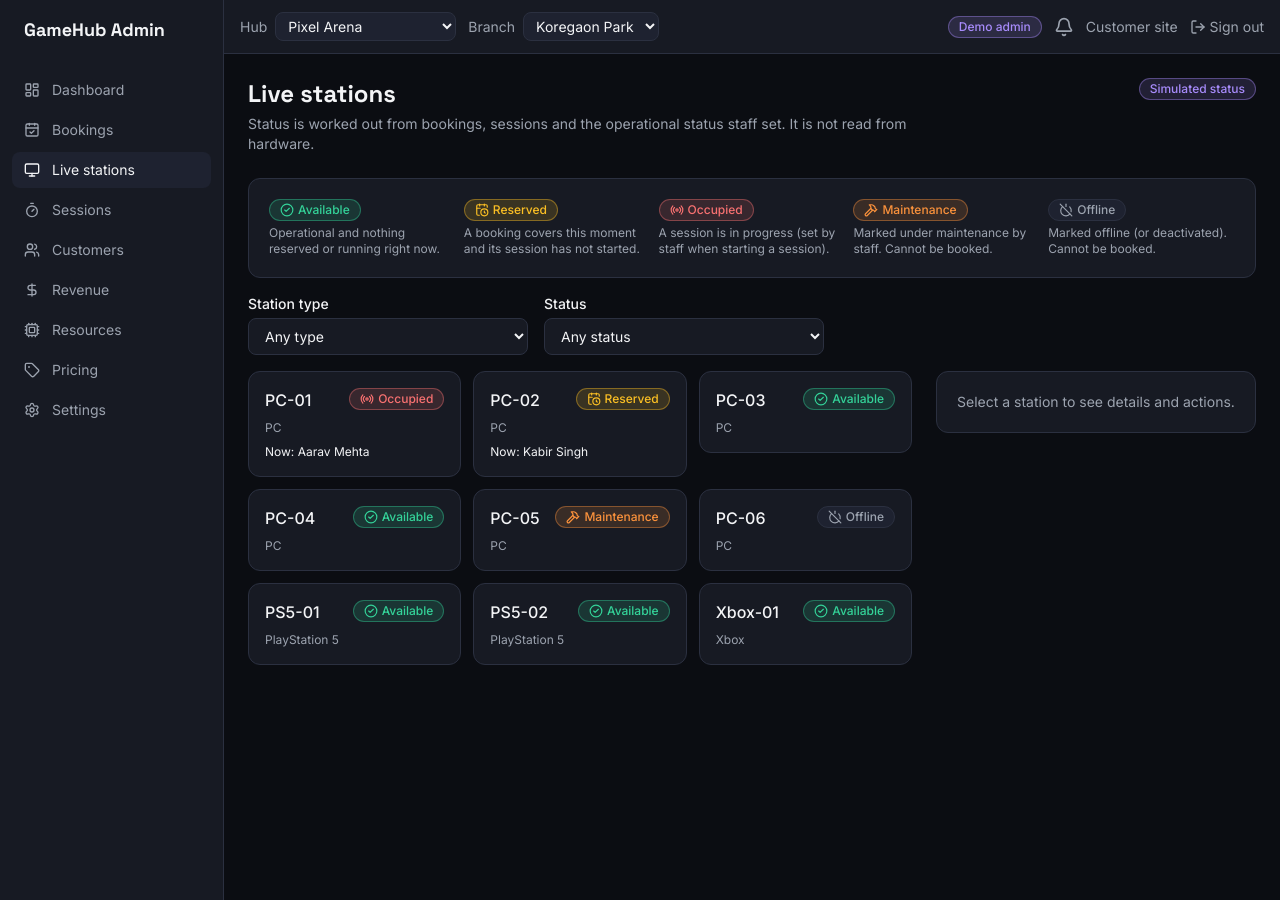
Live stations › filters by status
This screenshot has width=1280, height=900.
Expected: the text "PC-01" is shown, [265,388,311,412]
Select "Maintenance" in the dropdown labelled "Status" at {"x": 684, "y": 336}, box [544,318,824,355]
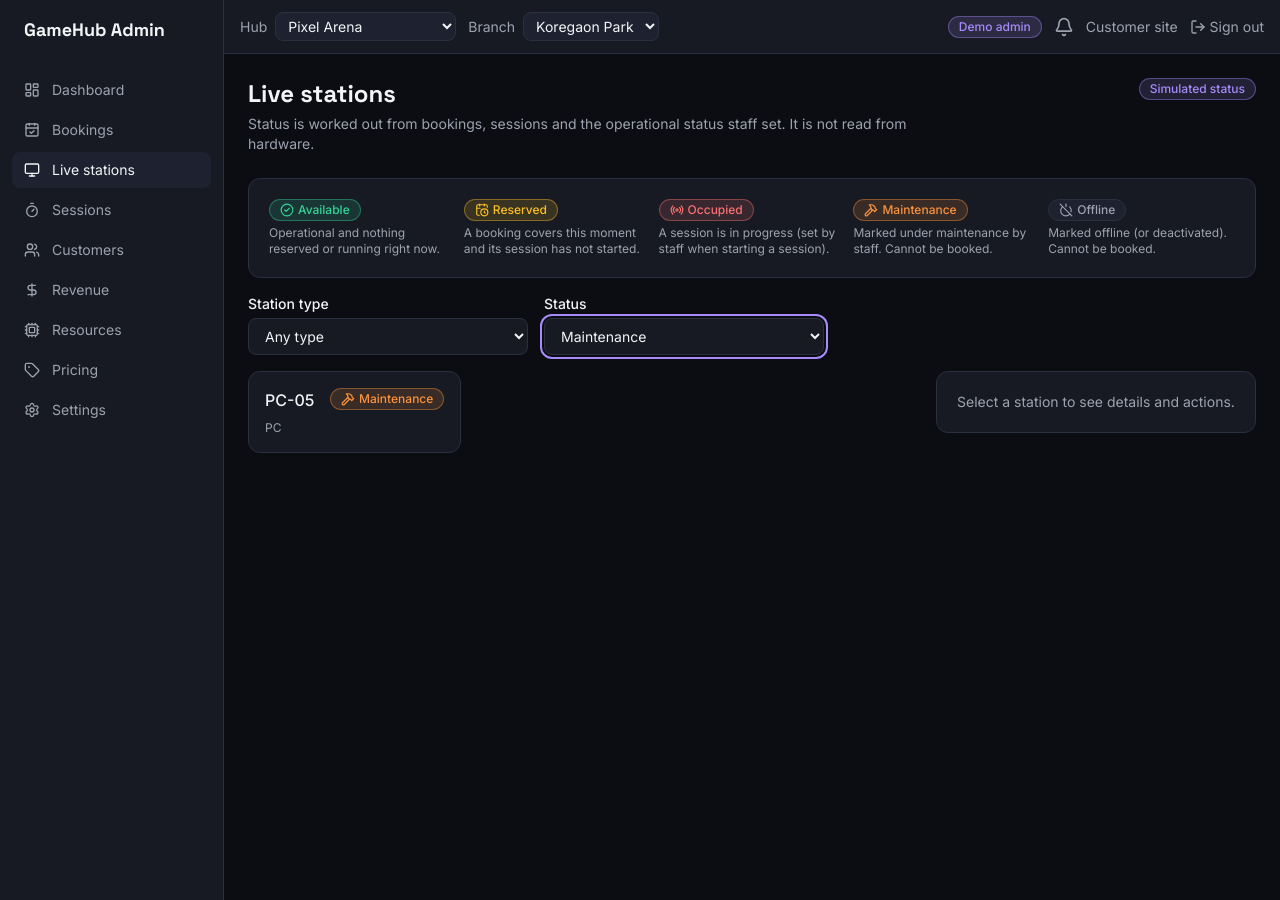
Expected: the text "PC-05" is shown, [265,388,314,412]
Expected: the button "PC-01" is gone
